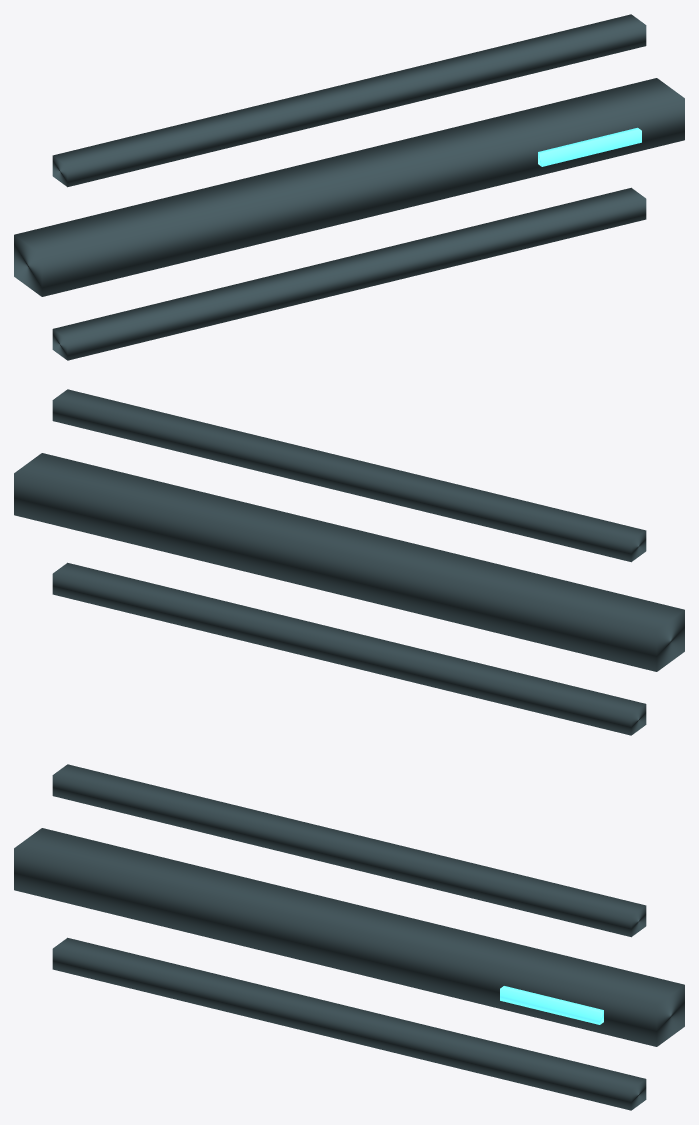
The model's file is spin-habitat-spoke-truss-lod2.glb.
3 views of the same model, one above another, from view 1: azimuth 30°, elevation 25°; view 2: azimuth 150°, elevation 25°; view 3: azimuth 330°, elevation 25° (orthographic).
Parts seen in each view (by area): view 1: spin-habitat-spoke-truss-main, spin-habitat-spoke-truss-upper, spin-habitat-spoke-truss-lower, spin-habitat-spoke-truss-status; view 2: spin-habitat-spoke-truss-main, spin-habitat-spoke-truss-upper, spin-habitat-spoke-truss-lower; view 3: spin-habitat-spoke-truss-main, spin-habitat-spoke-truss-upper, spin-habitat-spoke-truss-lower, spin-habitat-spoke-truss-status.
Boxes of the visible parts, x1,y1,x2,y2 form: spin-habitat-spoke-truss-main: (14,78,684,296); spin-habitat-spoke-truss-upper: (52,14,646,187); spin-habitat-spoke-truss-lower: (52,187,646,360); spin-habitat-spoke-truss-status: (538,127,641,166); spin-habitat-spoke-truss-main: (14,453,684,671); spin-habitat-spoke-truss-upper: (52,389,646,562); spin-habitat-spoke-truss-lower: (52,562,646,735); spin-habitat-spoke-truss-main: (14,828,684,1046); spin-habitat-spoke-truss-upper: (52,764,646,937); spin-habitat-spoke-truss-lower: (52,937,646,1110); spin-habitat-spoke-truss-status: (500,986,603,1024).
Bounding box in the file's own units: 4.5 × 1.3 × 0.425.
